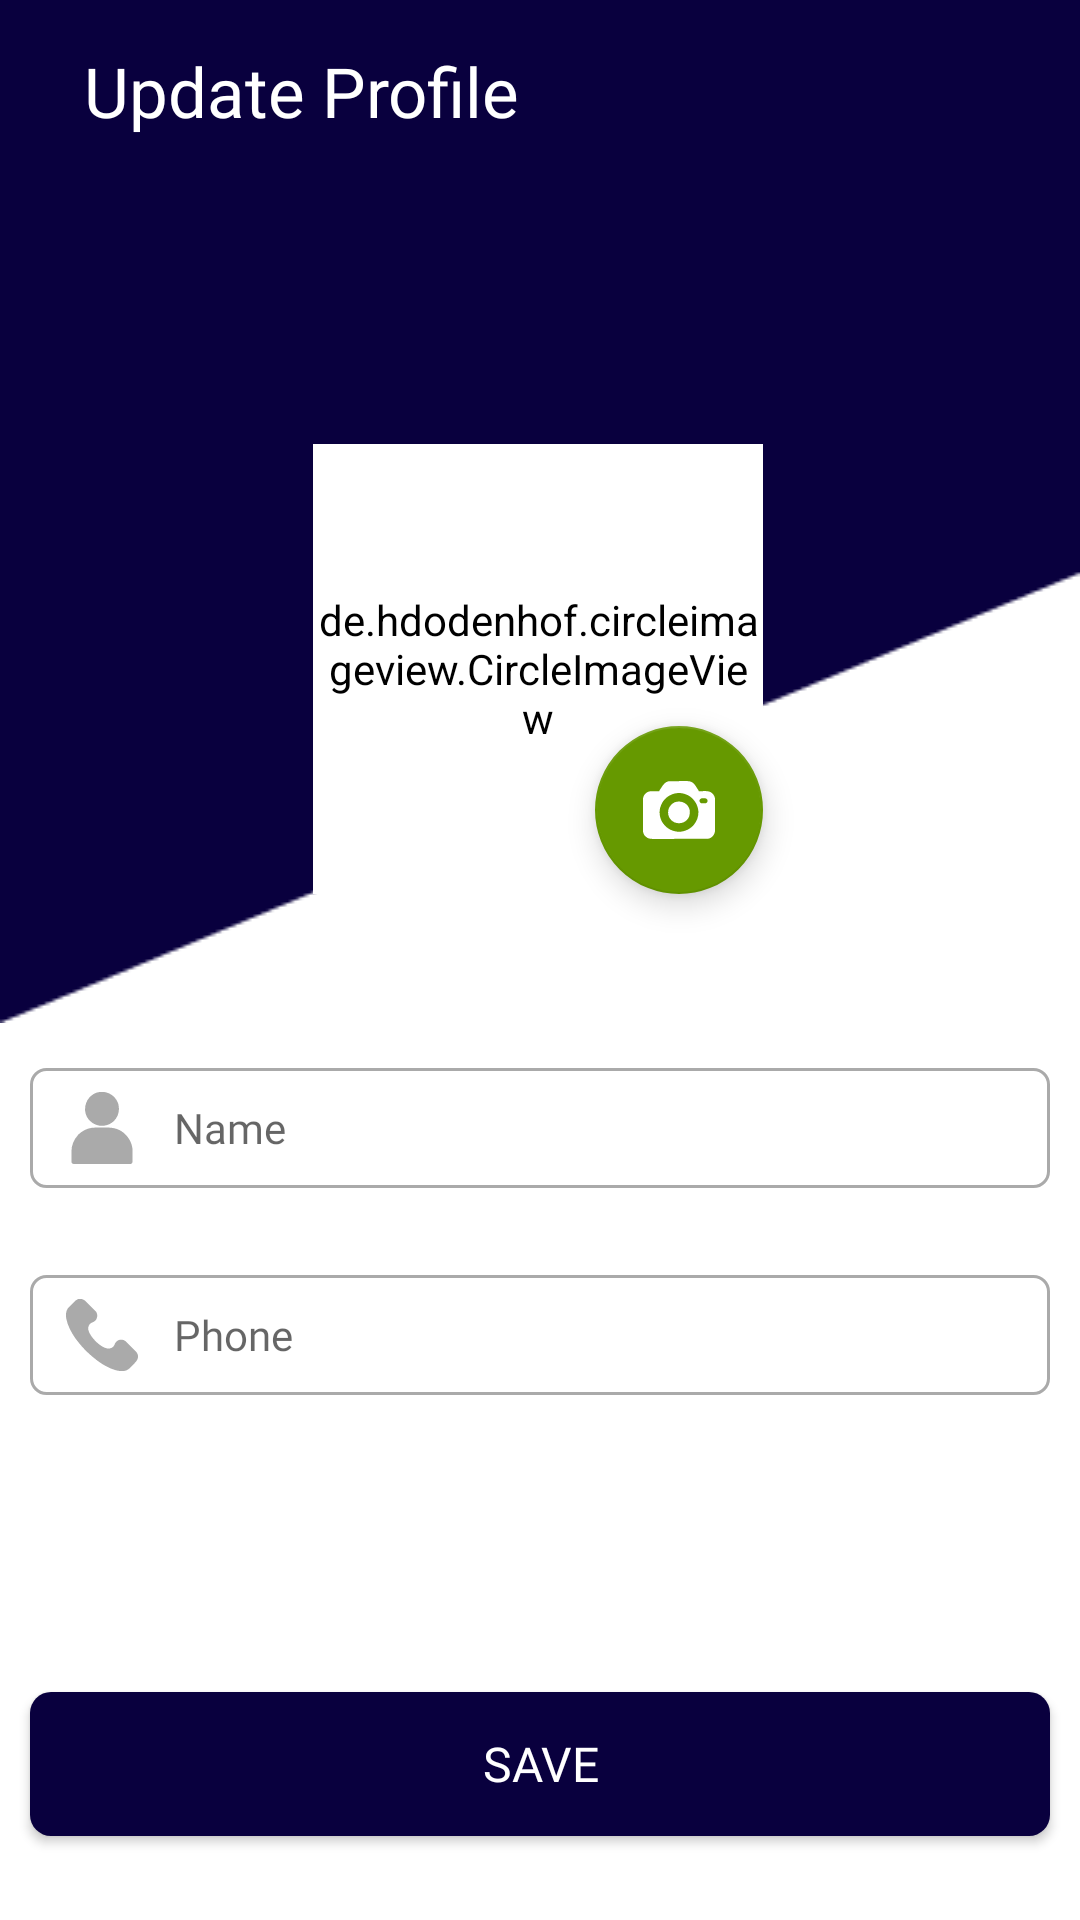

Icons on this 1080px x 1920px Android screen, each with its box as bbox=[x1, y1, x2, y2]:
photo camera: bbox=[595, 726, 763, 894]
